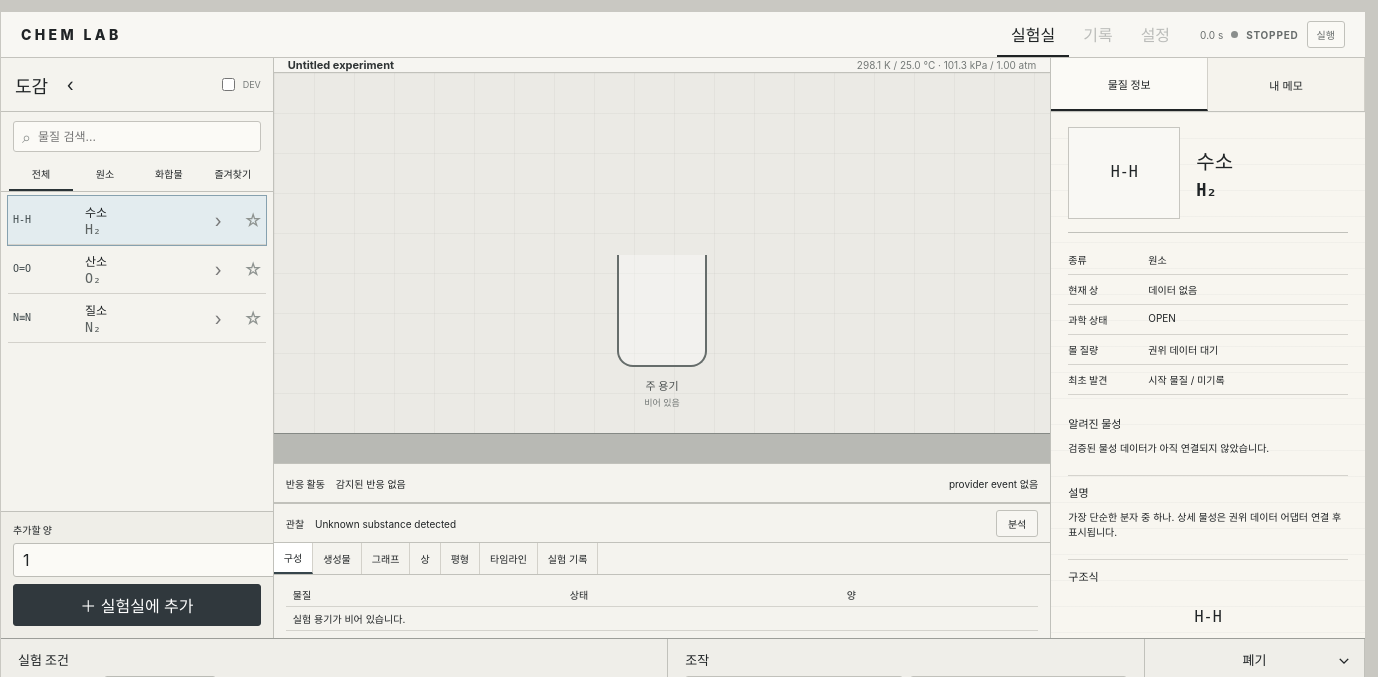
Scenario: LaboratoryWorkspace workbench refinement › confirms the mock unknown before catalog unlock feedback
The width and height of the screenshot is (1378, 677).
Click the button "분석" at (1017, 523), box [996,510,1038,536]
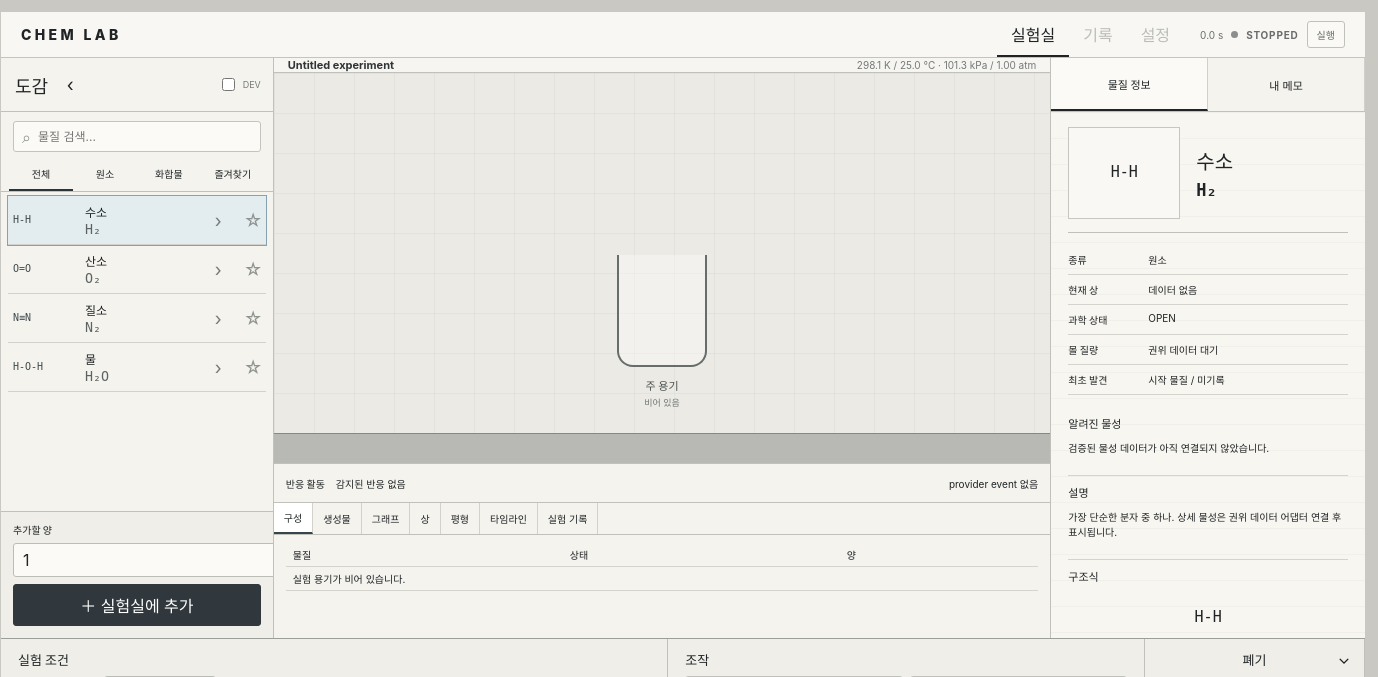
Check: the text "물" is shown, box [85,352,96,367]
Click the button "타임라인" at (509, 518), box [480,503,538,534]
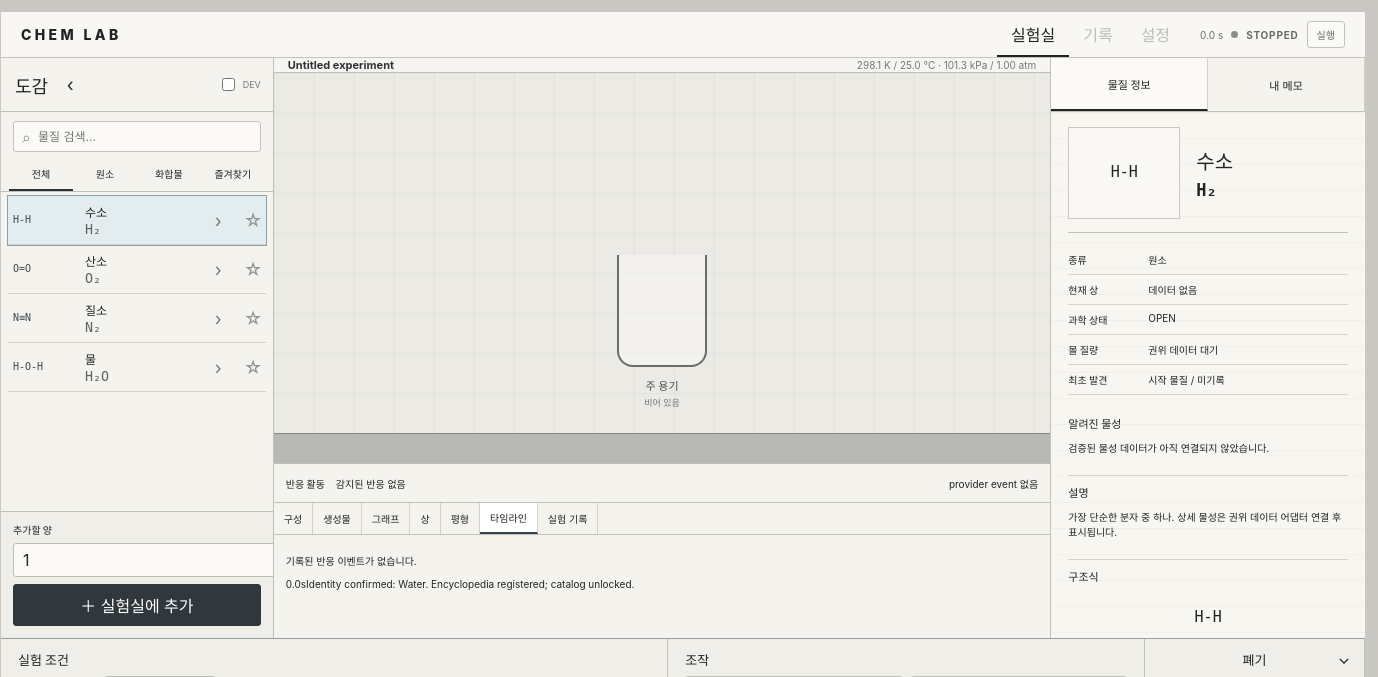
Check: the text "Identity confirmed: Water" is shown, box [306,578,634,590]
